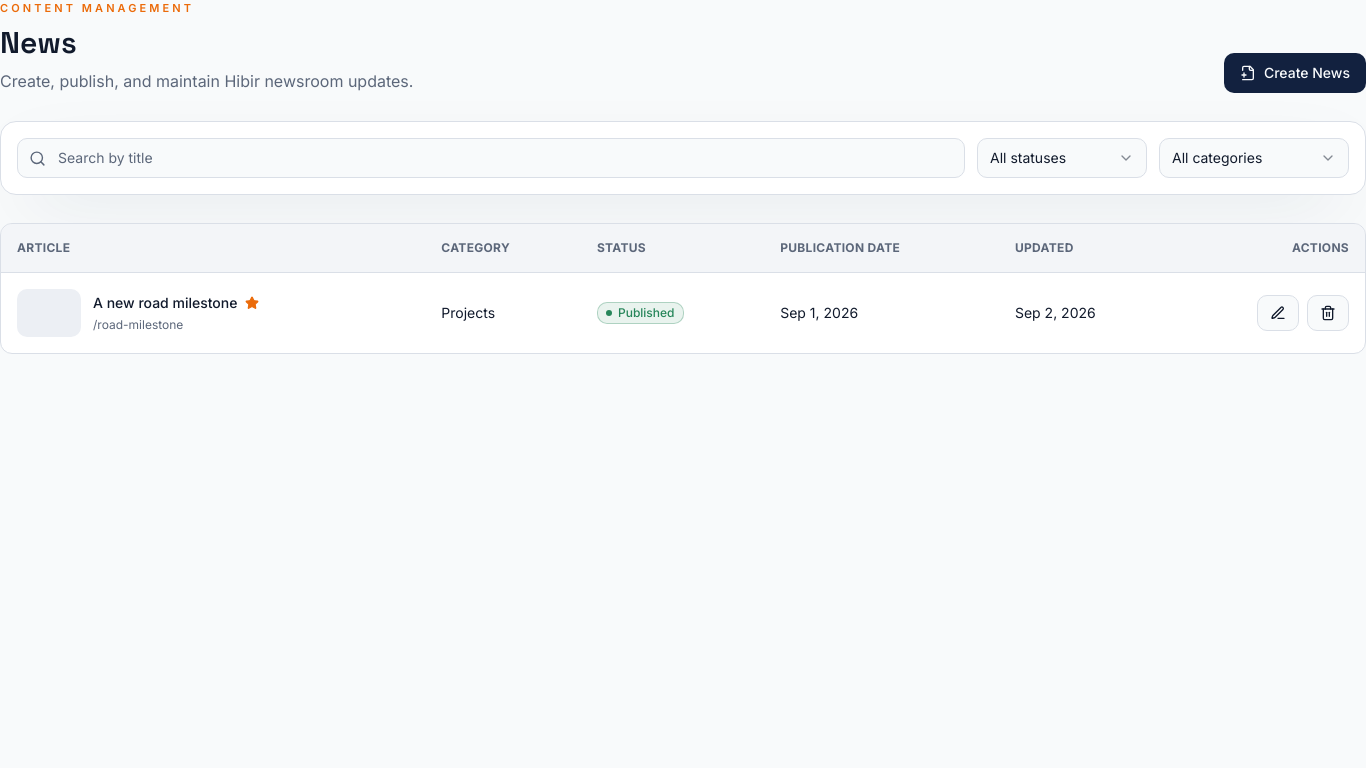
Test: admin news CMS › requires confirmation before deleting an article
Click the button named "Delete A new road milestone" at (1328,312), box [1307,294,1349,330]
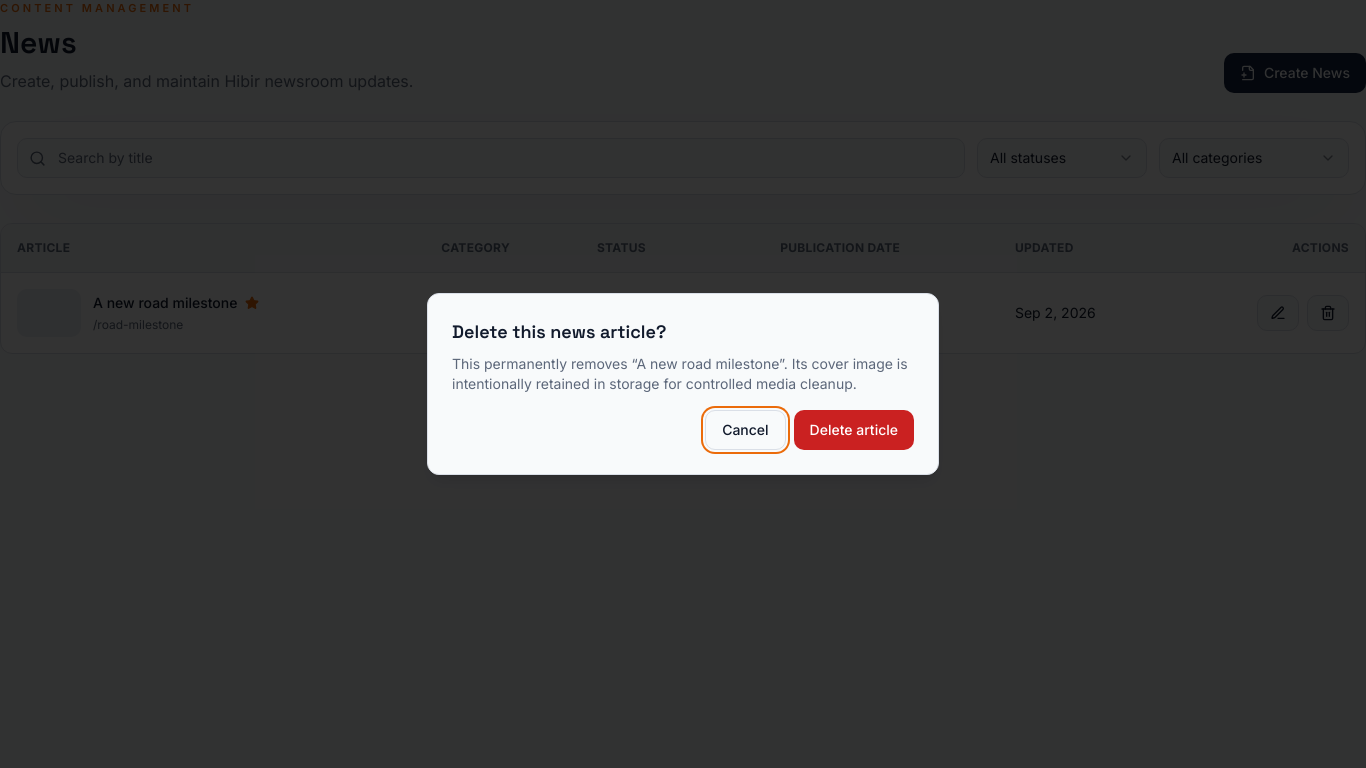
Expected: the heading "Delete this news article?" is shown, [452,320,666,343]
